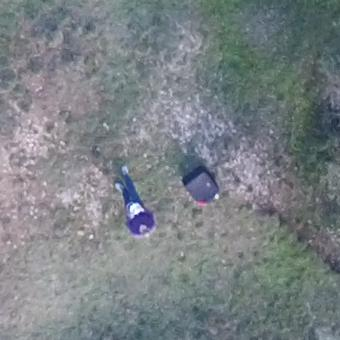human: (111, 160, 162, 238)
